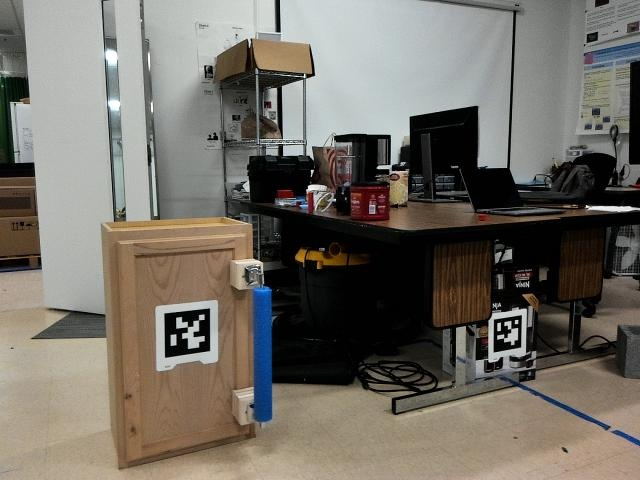noodle_handle: (242, 275, 279, 426)
